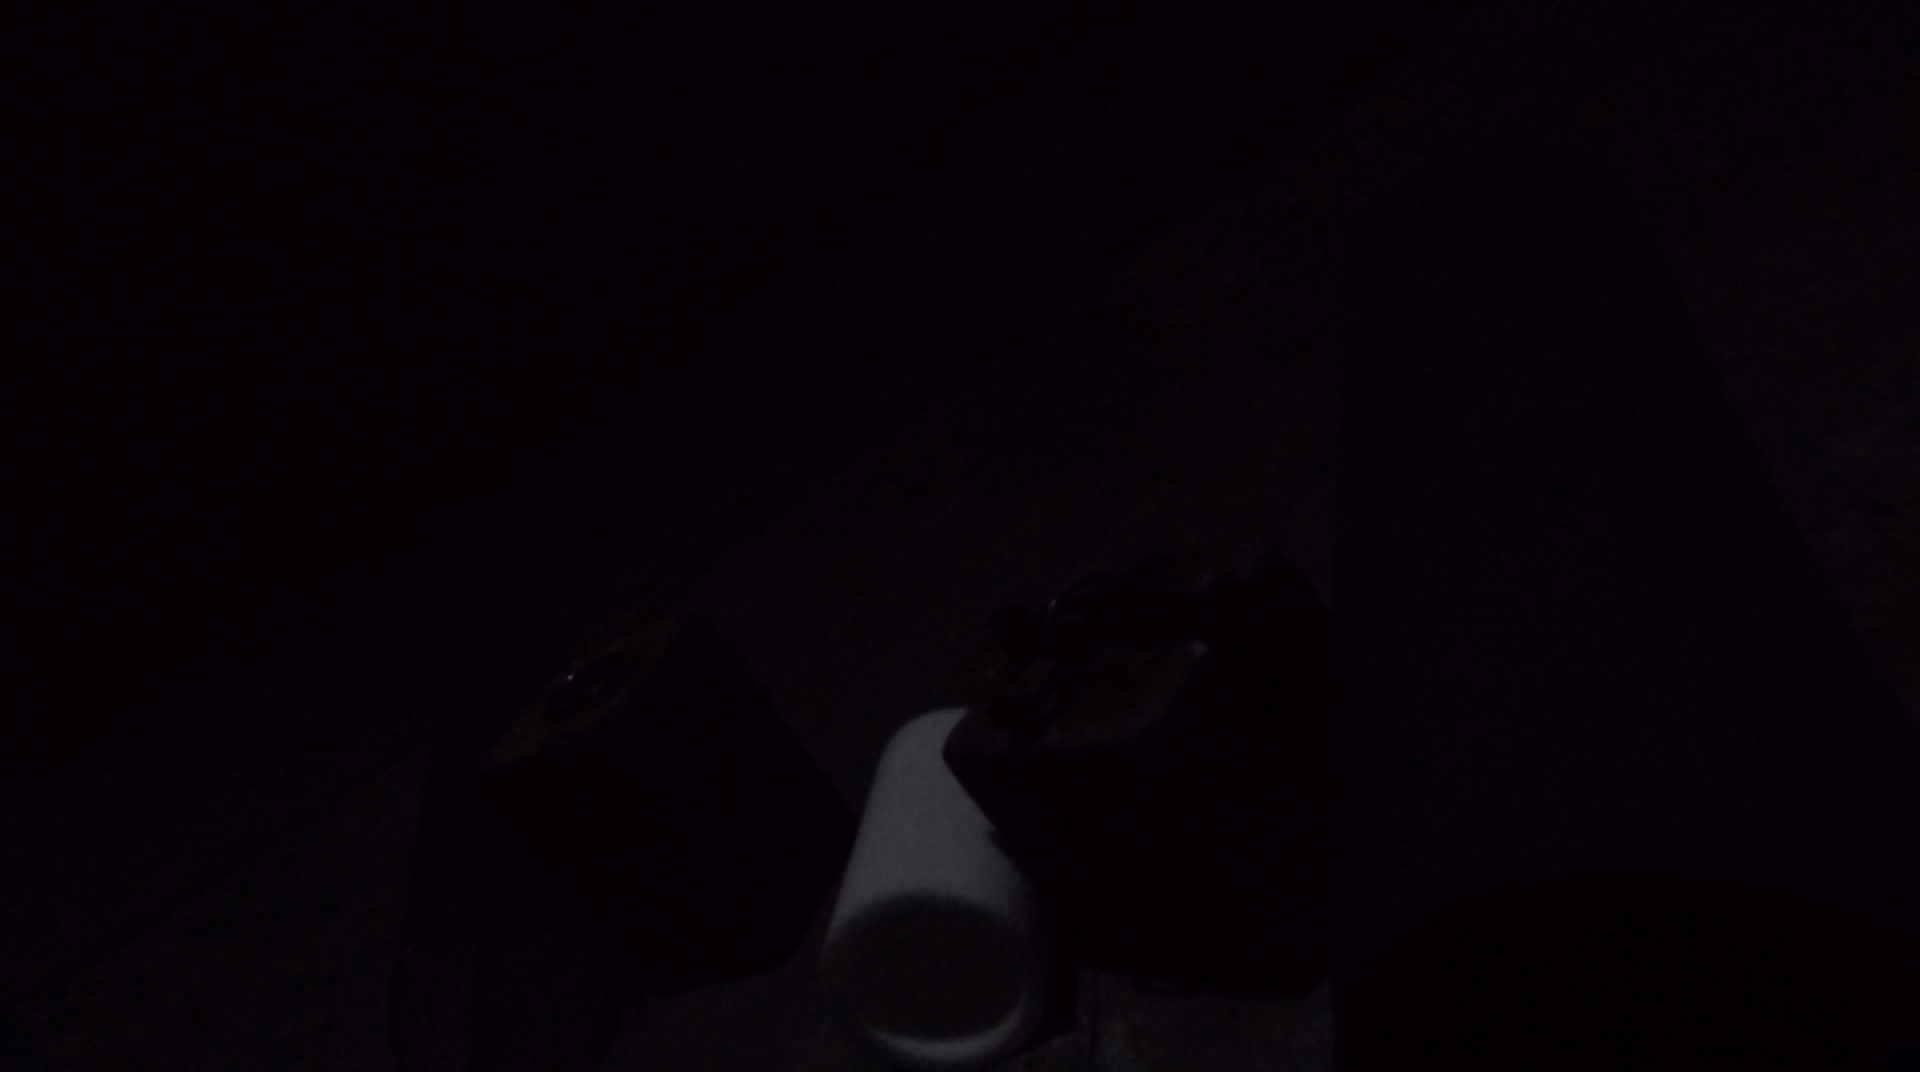led_block: (943, 541, 1338, 993), (446, 610, 853, 972)
pipe: (392, 630, 585, 1057), (818, 704, 1044, 1063)
